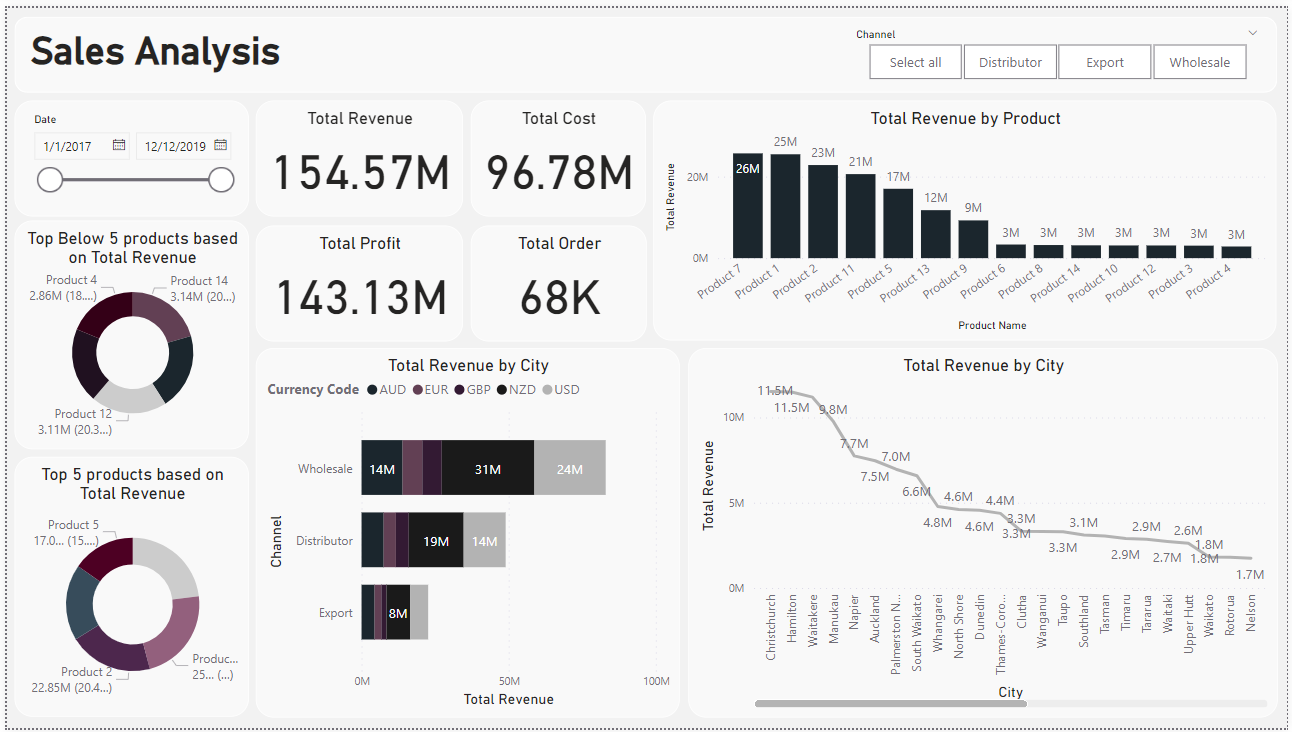

This screenshot's page, from the dashboard's own definition file:
{"tool":"powerbi","page":{"name":"Sales Analysis","canvas":[1280,720],"ordinal":0},"visuals":[{"type":"shape","box":[8.1,9,1262.7,76.1],"z":0},{"type":"textbox","box":[18.8,15.2,351.9,63.6],"z":1000},{"type":"slicer","title":"Departure","fields":{"Values":["Sales Orders.OrderDate"]},"box":[7.8,92.4,234.4,115.7],"z":3000},{"type":"slicer","title":"Departure","fields":{"Values":["Sales Orders.Channel"]},"box":[836.5,14.6,427,63.2],"z":4000},{"type":"card","title":"Total Revenue","fields":{"Values":["Sum(Sales Orders.Total Revenue)"]},"box":[249,92.4,207.2,115.7],"z":5000},{"type":"card","title":"Total Order","fields":{"Values":["Sum(Sales Orders.Order Quantity)"]},"box":[464,216.9,176,115.7],"z":6000},{"type":"card","title":"Total Cost","fields":{"Values":["Sum(Sales Orders.Total Cost)"]},"box":[464,92.4,175.1,115.7],"z":7000},{"type":"card","title":"Total Profit","fields":{"Values":["Sum(Sales Orders.Total Profit)"]},"box":[249,216.9,207.2,115.7],"z":8000},{"type":"donutChart","title":"Top 5 products based on Total Revenue","fields":{"Y":["Sum(Sales Orders.Total Revenue)"],"Category":["Products.Product Name"]},"box":[7.8,449.4,234.4,259.7],"z":9000},{"type":"donutChart","title":"Top Below 5 products based on Total Revenue","fields":{"Y":["Sum(Sales Orders.Total Revenue)"],"Category":["Products.Product Name"]},"box":[7.8,213,234.4,228.6],"z":10000},{"type":"columnChart","title":"Total Revenue by Product","fields":{"Category":["Products.Product Name"],"Y":["Sum(Sales Orders.Total Revenue)"]},"box":[646.8,92.4,623.5,240.2],"z":11000},{"type":"lineChart","title":"Total Revenue by City","fields":{"Category":["Regions.City"],"Y":["Sum(Sales Orders.Total Revenue)"]},"box":[680.9,339.5,589.4,369.6],"z":11001},{"type":"barChart","title":"Total Revenue by City","fields":{"Category":["Sales Orders.Channel"],"Y":["Sum(Sales Orders.Total Revenue)"],"Series":["Sales Orders.Currency Code"]},"box":[249,339.5,424.1,369.6],"z":11002}]}

Visuals, with their boxes in screenshot pixels (x1, y1, x2, y2), scaled from the page's 1280x720 canvas onto the 1292x732 screenshot:
shape: 8 9 1283 87
textbox: 19 15 374 80
"Departure" slicer: 8 94 244 212
"Departure" slicer: 844 15 1275 79
"Total Revenue" card: 251 94 460 212
"Total Order" card: 468 221 646 338
"Total Cost" card: 468 94 645 212
"Total Profit" card: 251 221 460 338
"Top 5 products based on Total Revenue" donutChart: 8 457 244 721
"Top Below 5 products based on Total Revenue" donutChart: 8 217 244 449
"Total Revenue by Product" columnChart: 653 94 1282 338
"Total Revenue by City" lineChart: 687 345 1282 721
"Total Revenue by City" barChart: 251 345 679 721
